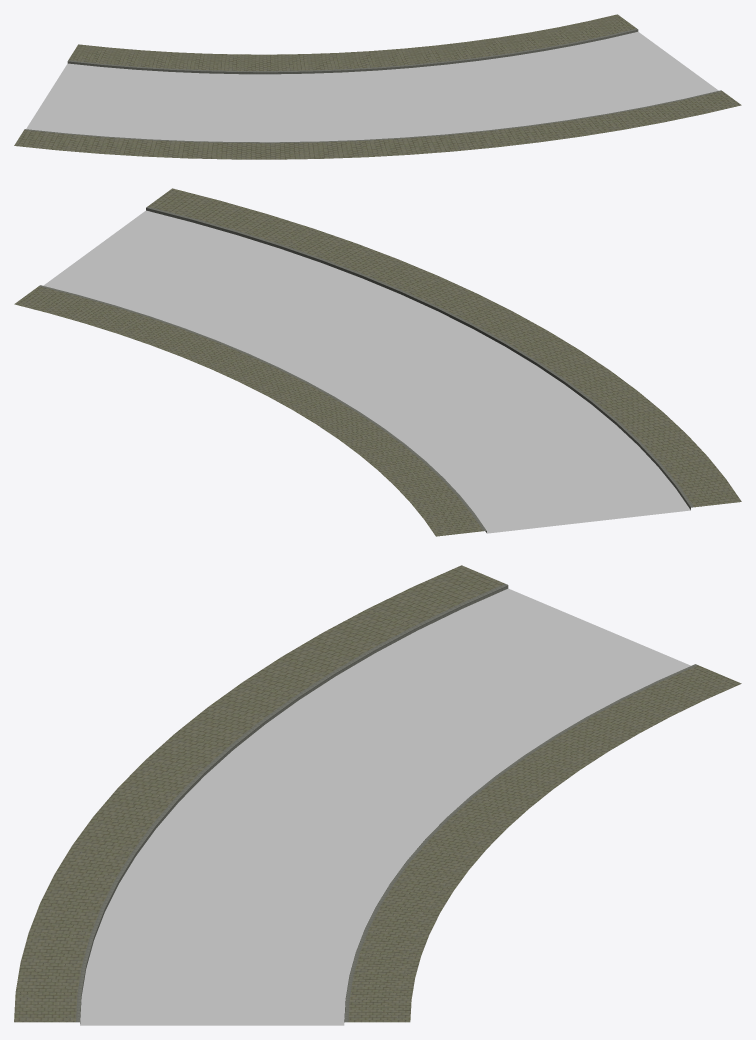
Rendered from CT_Road_Long_Turm_01.fbx.
The picture shows the model from 3 angles, top to bottom: view 1: azimuth 30°, elevation 25°; view 2: azimuth 150°, elevation 25°; view 3: azimuth 270°, elevation 25°; orthographic projection. The views are drawn at different scales.
Visible parts, largest first — view 1: CT_Road_Long_Turm_01; view 2: CT_Road_Long_Turm_01; view 3: CT_Road_Long_Turm_01.
Boxes of the visible parts, x1,y1,x2,y2 form: CT_Road_Long_Turm_01: [14, 14, 741, 159]; CT_Road_Long_Turm_01: [14, 188, 741, 536]; CT_Road_Long_Turm_01: [14, 565, 741, 1025].
Size of the model in its own units: 4190 by 15 by 2821.
